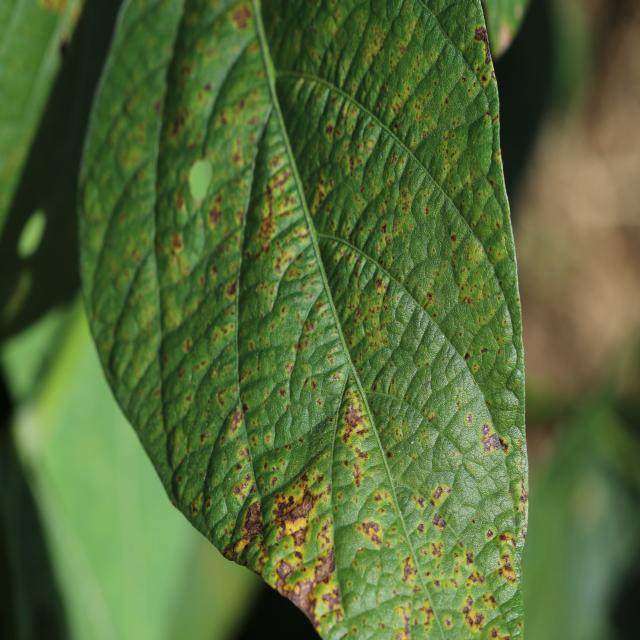Bacterial_Blight: (242, 161, 301, 271), (262, 471, 327, 559), (571, 476, 609, 527), (466, 114, 493, 182), (335, 386, 374, 432), (2, 273, 32, 324), (311, 586, 343, 624), (437, 133, 462, 179), (459, 595, 488, 632), (481, 427, 509, 455), (243, 500, 264, 537), (495, 550, 518, 583), (474, 25, 492, 65), (208, 192, 225, 226), (231, 4, 252, 30), (429, 484, 450, 508), (230, 137, 245, 167), (401, 556, 417, 582), (351, 461, 366, 487), (361, 520, 381, 539), (465, 569, 485, 588), (431, 512, 447, 532), (230, 408, 243, 432), (171, 115, 185, 137), (422, 291, 436, 311), (170, 234, 183, 255), (498, 532, 516, 546), (59, 39, 71, 59), (442, 613, 455, 630), (431, 542, 443, 557), (216, 390, 226, 406), (227, 281, 237, 296), (331, 370, 342, 383), (464, 551, 474, 565), (199, 432, 209, 445), (375, 277, 384, 291), (462, 296, 473, 306), (485, 528, 494, 539), (427, 412, 435, 423), (417, 497, 425, 508), (417, 523, 425, 534), (302, 377, 310, 388), (325, 124, 333, 135), (279, 387, 287, 398), (465, 412, 472, 424), (242, 403, 249, 414), (265, 433, 272, 444), (450, 233, 457, 243), (463, 352, 470, 362), (424, 206, 431, 216), (381, 223, 387, 234), (480, 347, 488, 355), (422, 379, 429, 388), (461, 76, 467, 83), (215, 308, 219, 315)
Soybean: (79, 0, 527, 640)
